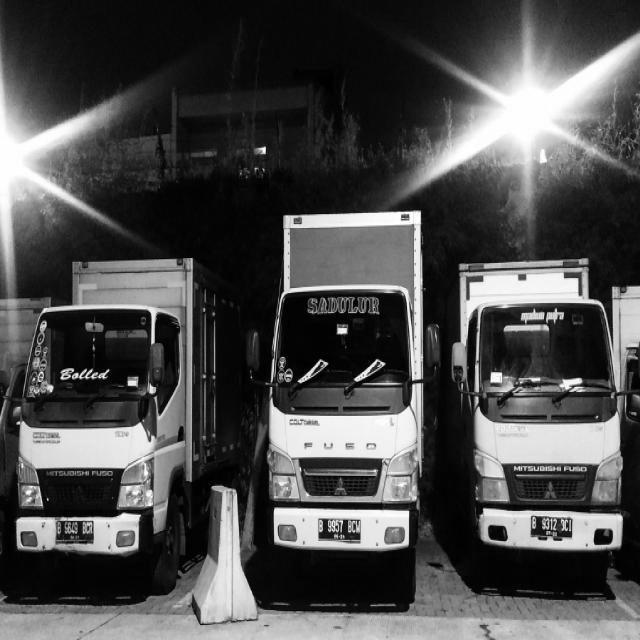truck: (13, 287, 225, 571), (246, 263, 441, 570), (455, 281, 635, 566)
